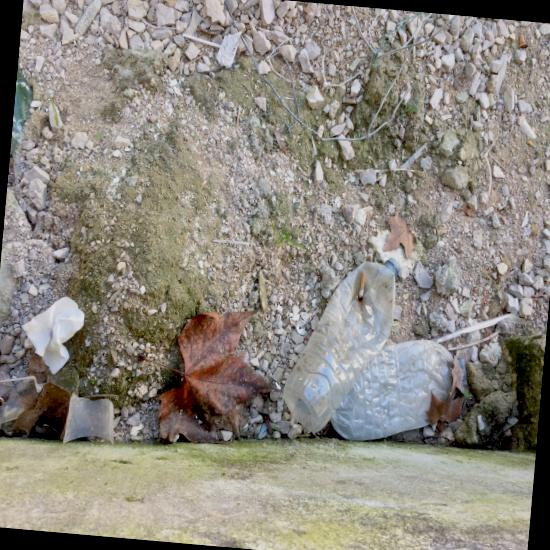Cigarette: (358, 272, 367, 300)
Clear plastic bottle: (283, 257, 400, 432), (330, 339, 466, 440)
Other plastic bottle: (62, 393, 113, 445), (0, 374, 48, 423), (322, 54, 360, 88), (265, 38, 293, 82), (483, 134, 499, 197), (134, 5, 171, 28), (182, 32, 221, 47), (166, 11, 180, 30)
Plastic straw: (432, 314, 512, 342)
Tissues: (20, 296, 84, 374)
Unlabeled litter: (216, 31, 241, 68)
